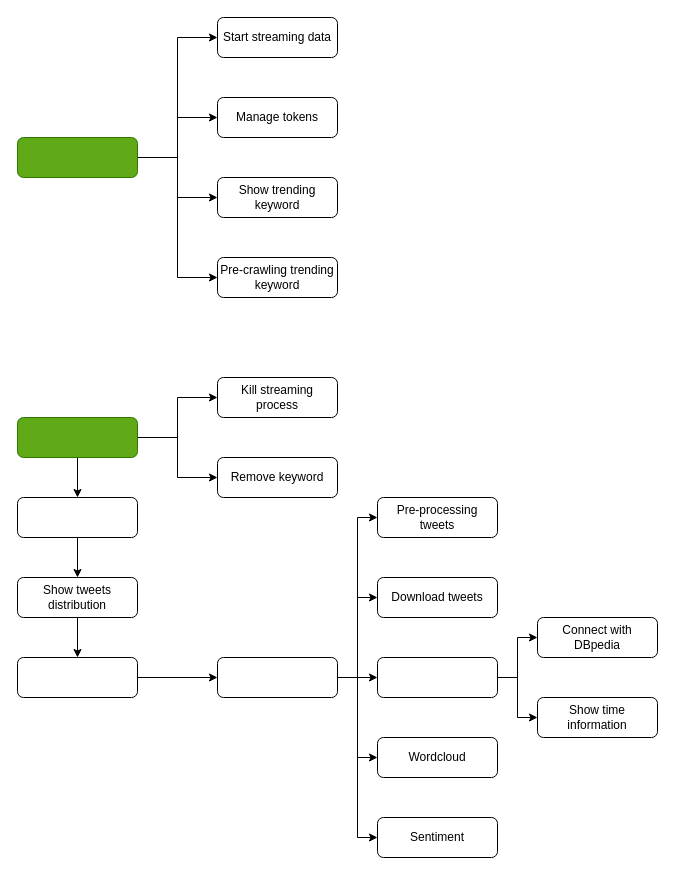
The diagram is 675 pixels wide and 875 high, and some of its shapes have lost their labels. Each missing label, with the centre of its shape:
"Choose keyword" goes at point 77,517.
"Extract knowledge graph" goes at point 437,677.
"Manage System" goes at point 77,437.
"Search Keyword" goes at point 77,157.
"Select time range" goes at point 77,677.
"Show tweets in time range" goes at point 277,677.
